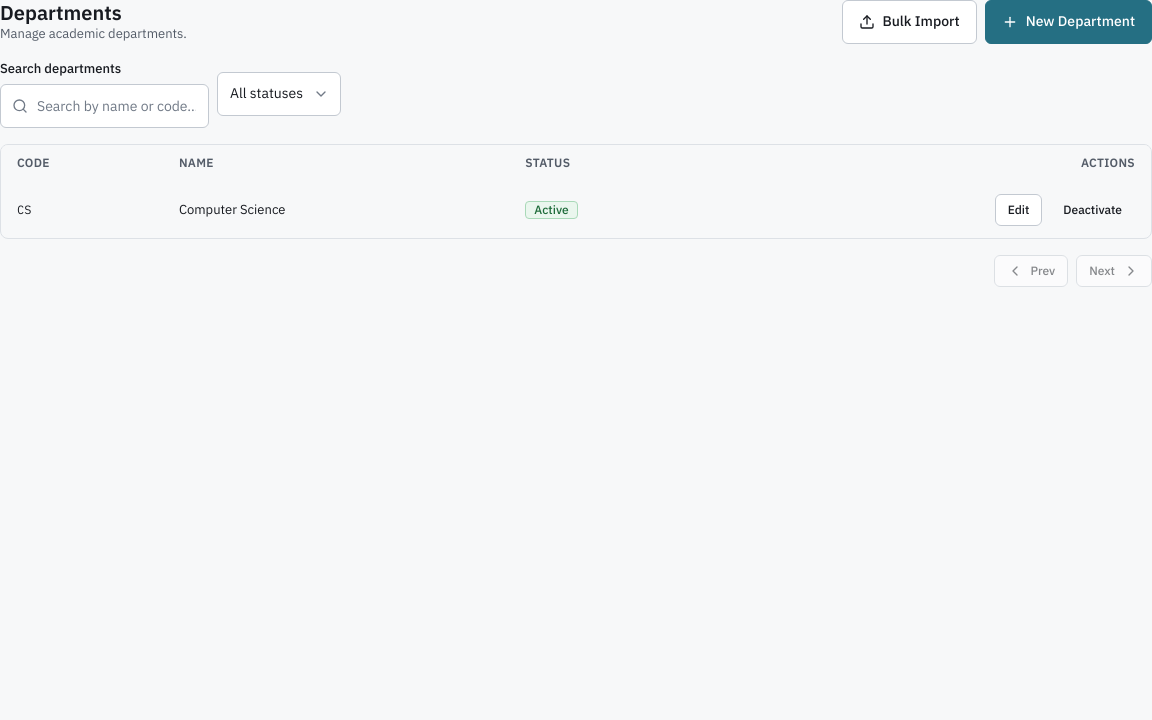
Test: Admin > Academic Structure > Departments › shows a 409 conflict message when the department code already exists
This screenshot has width=1152, height=720.
Expected: the text "Computer Science" is shown, x1=163 y1=182 x2=509 y2=238
Click the button "New Department" at (1068, 22), box x1=985 y1=0 x2=1151 y2=44
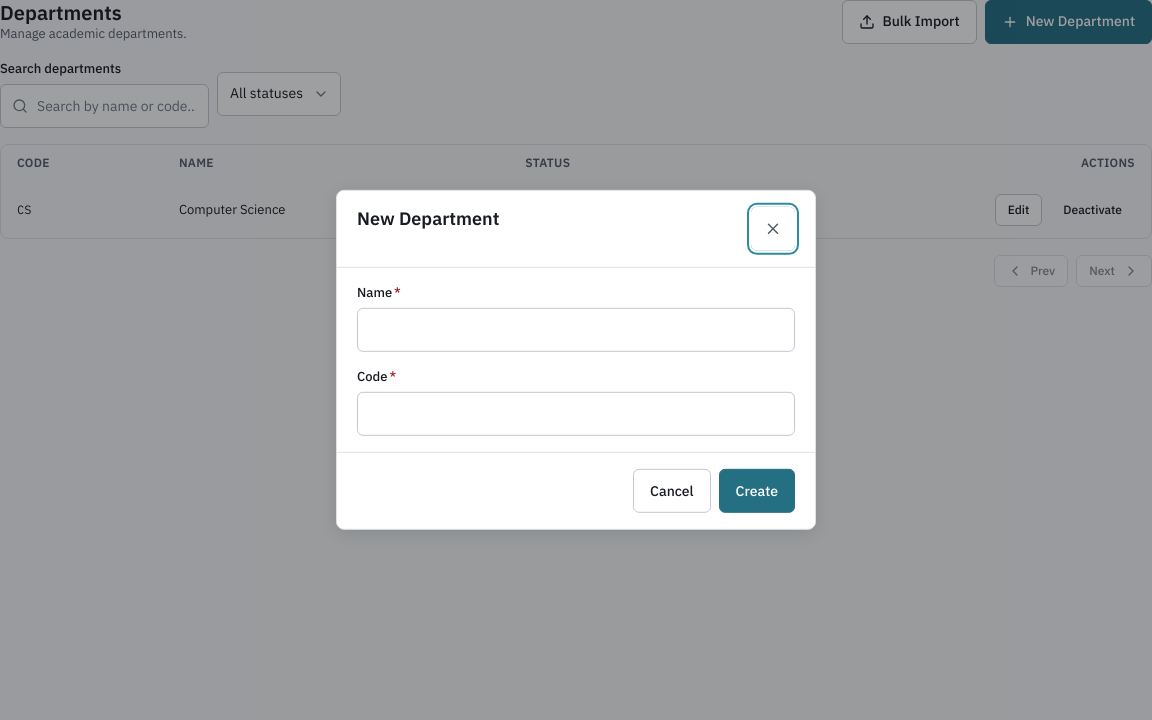
Type "Duplicate Dept" into the field labelled "Name*" at (576, 330), box x1=357 y1=308 x2=795 y2=352
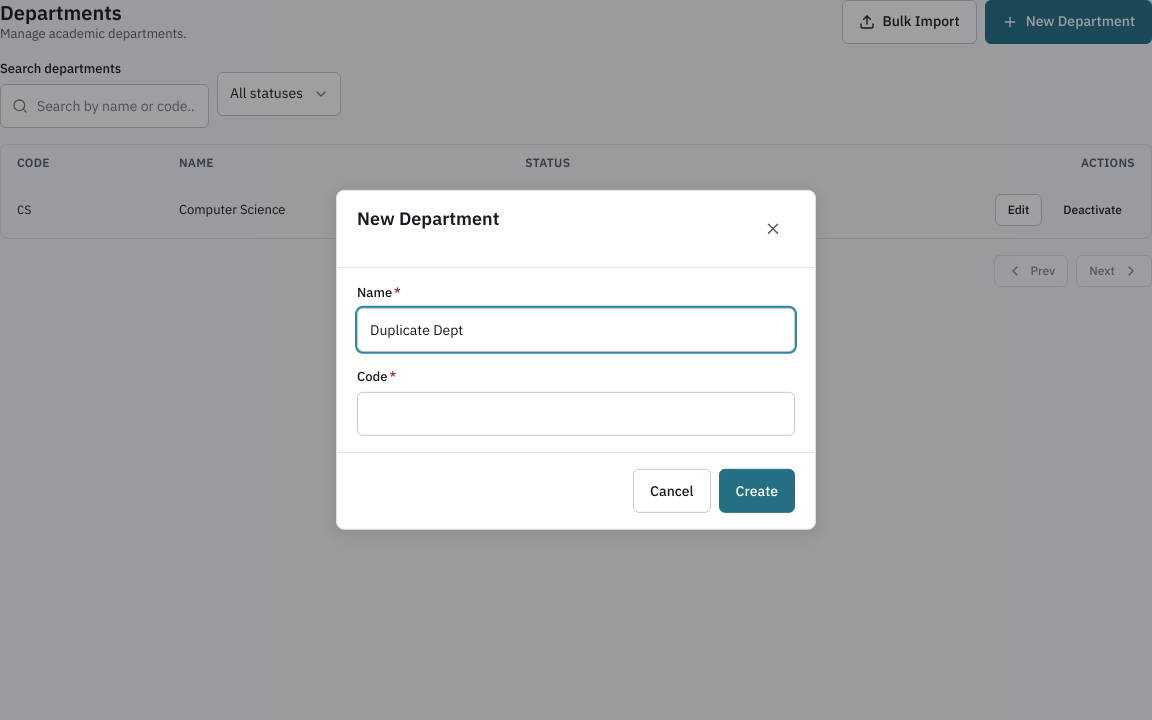
Type "CS" into the field labelled "Code*" at (576, 414), box x1=357 y1=392 x2=795 y2=436
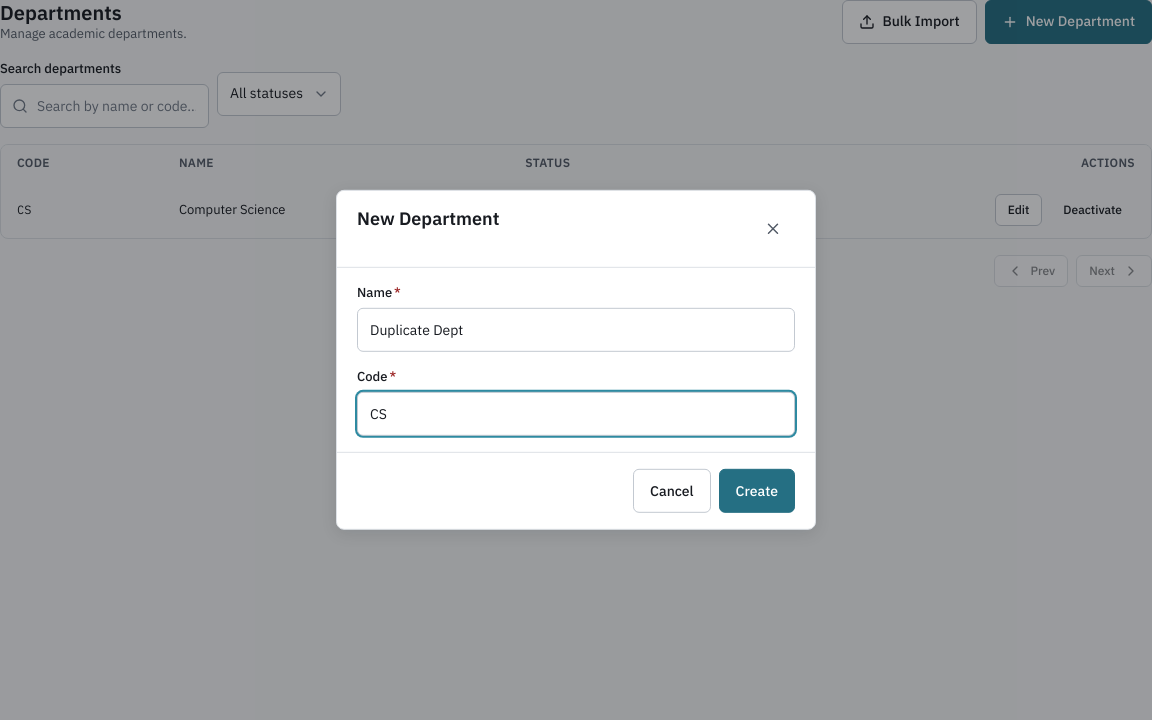
Click the button "Create" at (757, 491), box x1=719 y1=469 x2=795 y2=513
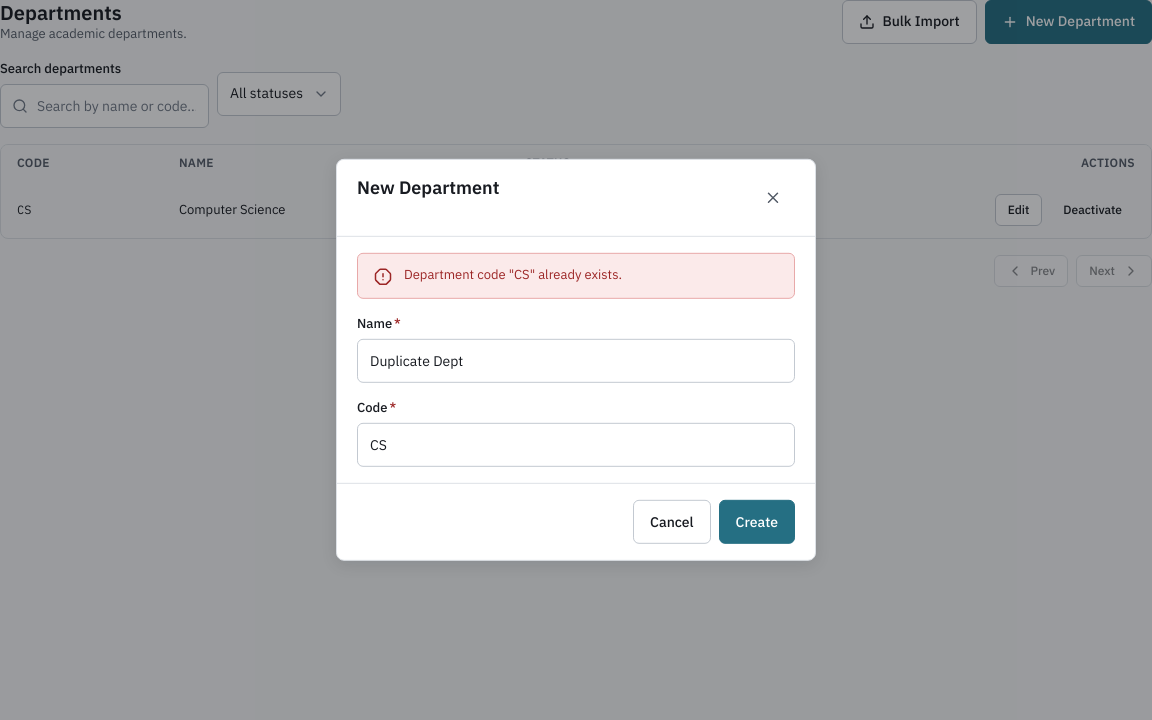
Now the text "Department code \"CS\" already exists." is shown, box x1=404 y1=266 x2=622 y2=283
